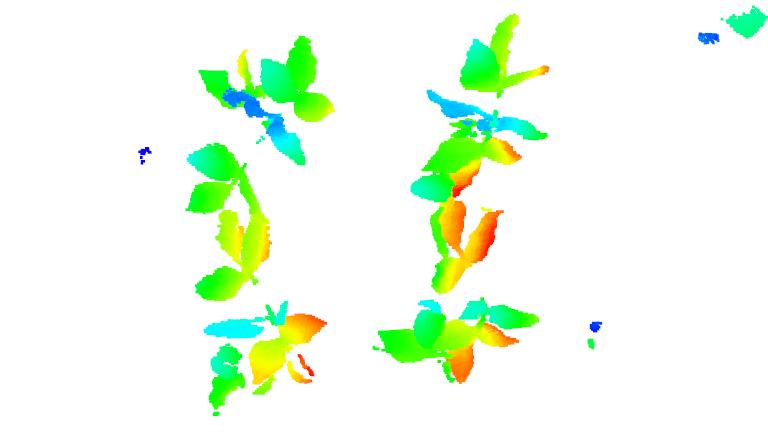mungbean: (166, 205, 334, 417), (377, 199, 543, 386), (182, 24, 338, 214), (405, 11, 547, 198)
